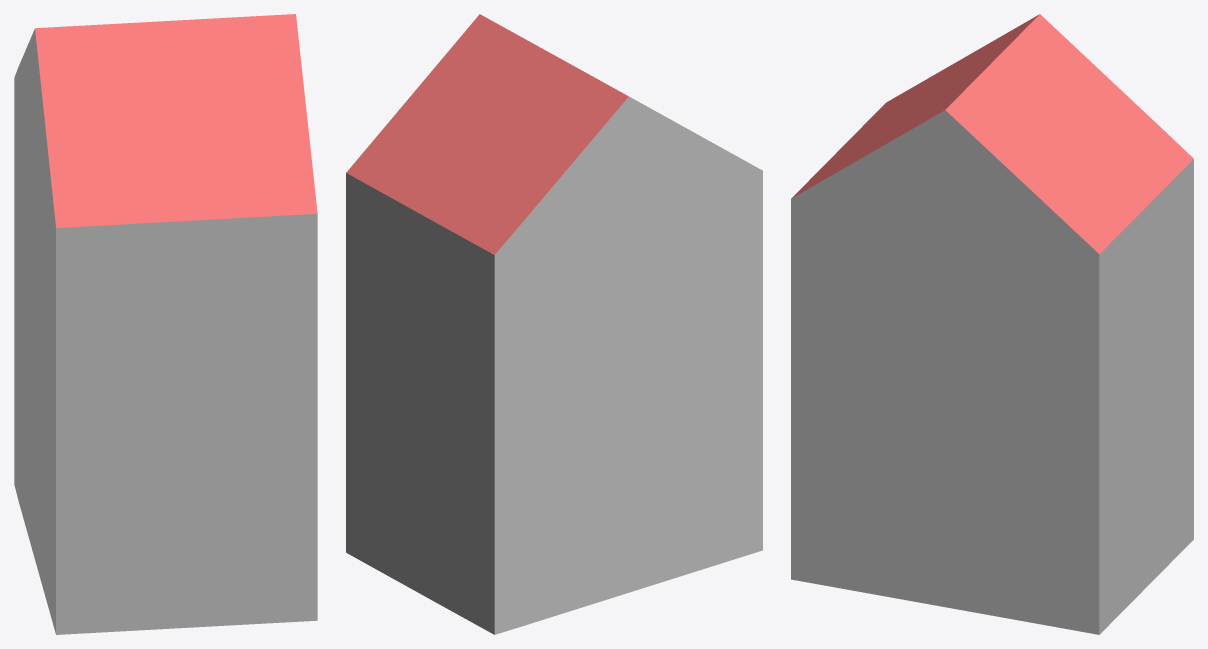
File: DEBY_LOD2_4907218.gltf
3 views of the same model, side by side, from view 1: azimuth 30°, elevation 25°; view 2: azimuth 150°, elevation 25°; view 3: azimuth 270°, elevation 25° (orthographic). The views are drawn at different scales.
Parts seen in each view (by area): view 1: Z_UP; view 2: Z_UP; view 3: Z_UP.
Part boxes in pixels (<box>): Z_UP: <box>14,14,317,634</box>; Z_UP: <box>346,14,762,634</box>; Z_UP: <box>791,14,1193,634</box>.
Size of the model in its own units: 15.07 by 23.04 by 16.92.
